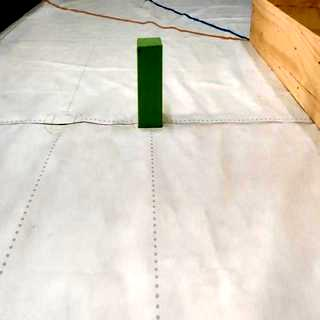greenbox: (137, 36, 164, 128)
